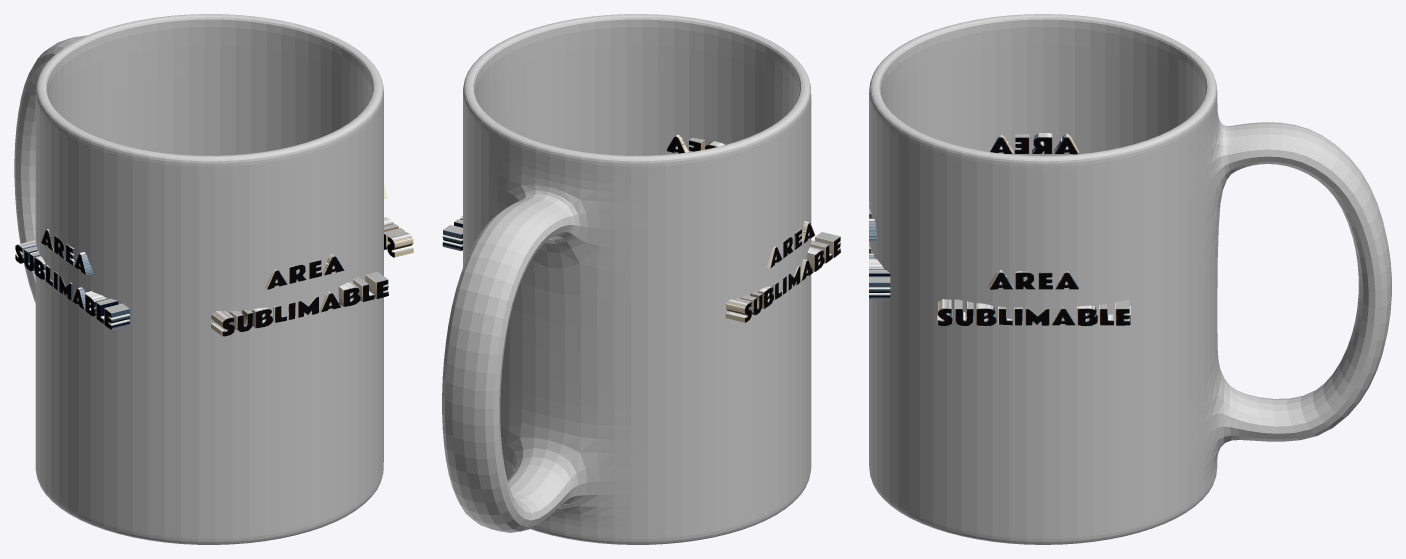
File: tazab.glb
3 views of the same model, side by side, from view 1: azimuth 30°, elevation 25°; view 2: azimuth 150°, elevation 25°; view 3: azimuth 270°, elevation 25° (orthographic).
Bounding box in the file's own units: 0.1223 × 0.1503 × 0.1836.
2 materials, 1 textured.
